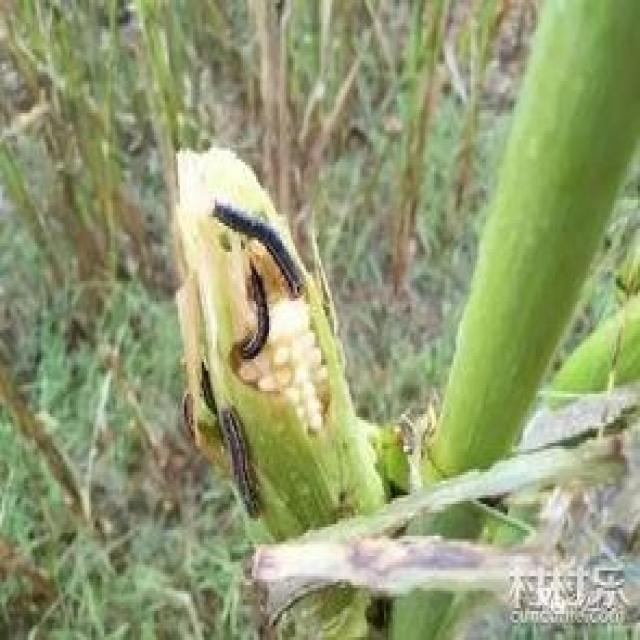army worm: (211, 198, 307, 296), (220, 401, 264, 517), (235, 259, 283, 363)
